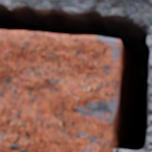brick: (0, 31, 120, 151)
crack: (0, 1, 151, 151)
